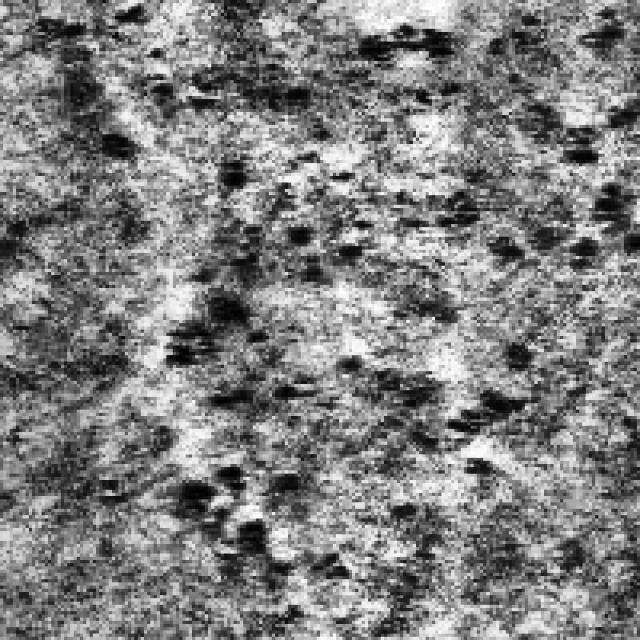Crazing: (102, 189, 365, 621), (380, 118, 602, 477), (93, 12, 429, 186)
